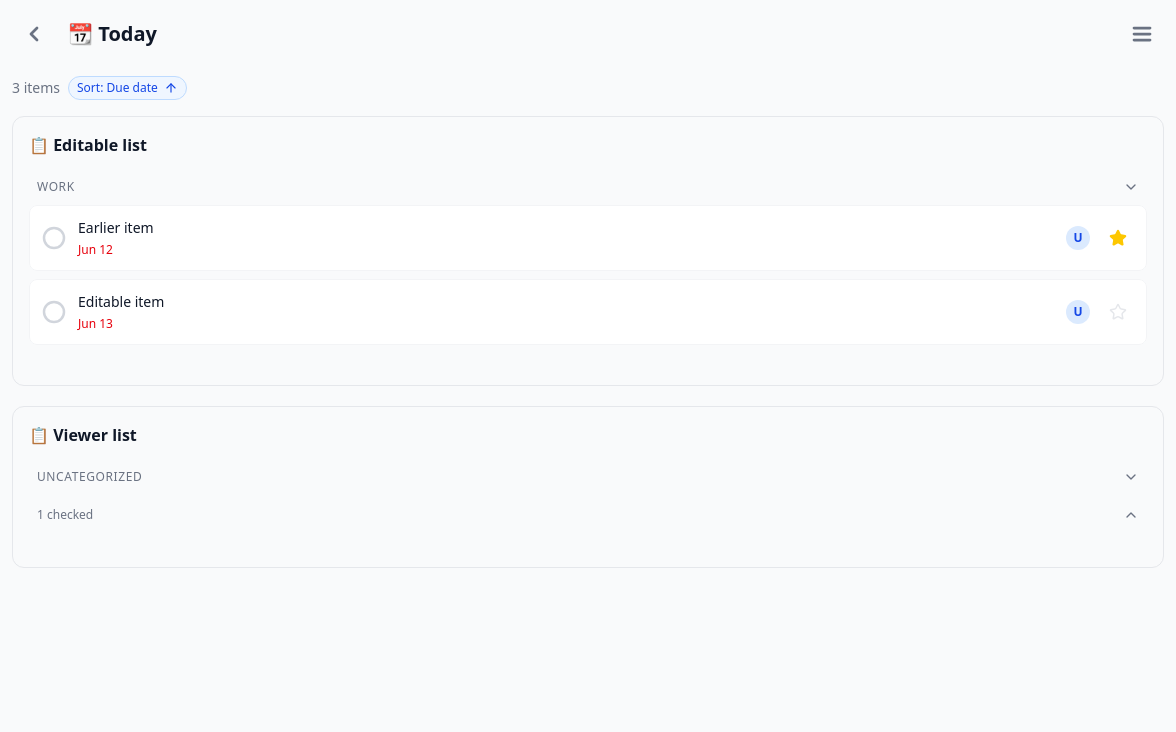
Test: Today page › uses the common burger menu with Filter and Sort submenus
The width and height of the screenshot is (1176, 732).
What coordinates should you click on to do the following:
click the button named "Today options"
I would click on:
 (1142, 34)
Its box is [1120,12,1164,56].
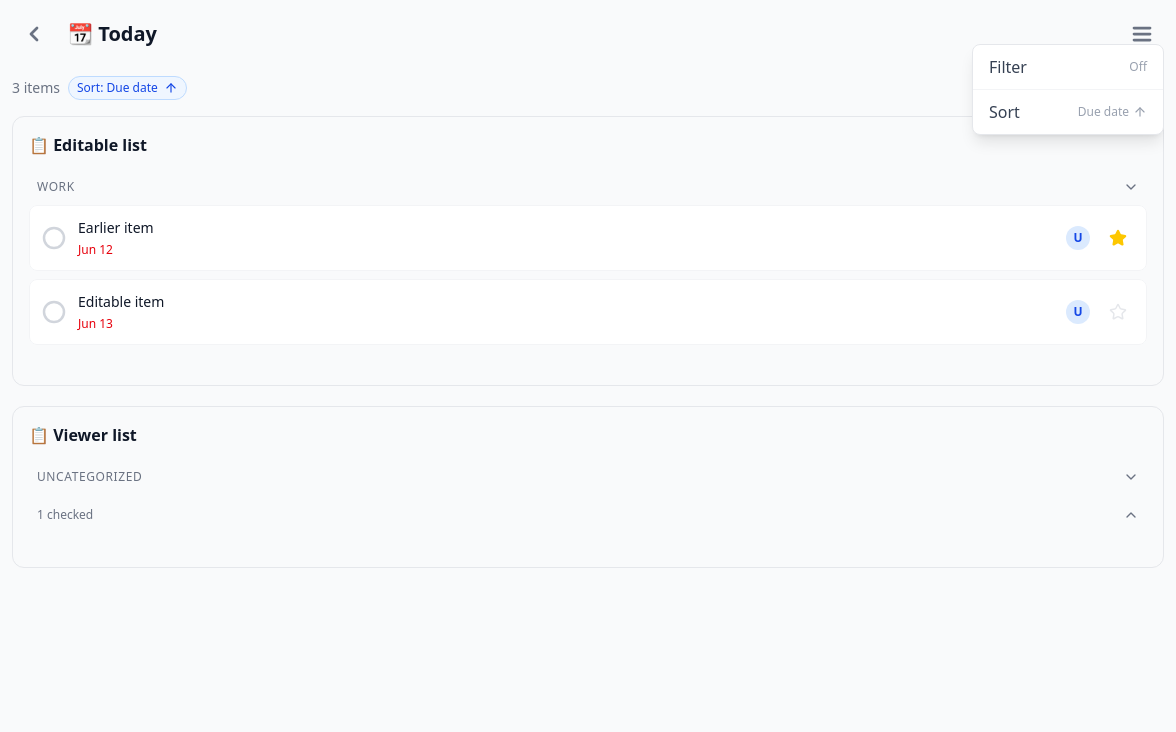
Check: the button "Starred only" is not shown
Check: the button "Filter Off" is shown
Check: the button "Sort Due date" is shown, box [973,94,1163,130]
What coordinates should you click on to do the following:
click the button "Filter Off"
I would click on:
 (1068, 67)
Its box is [973,49,1163,85].
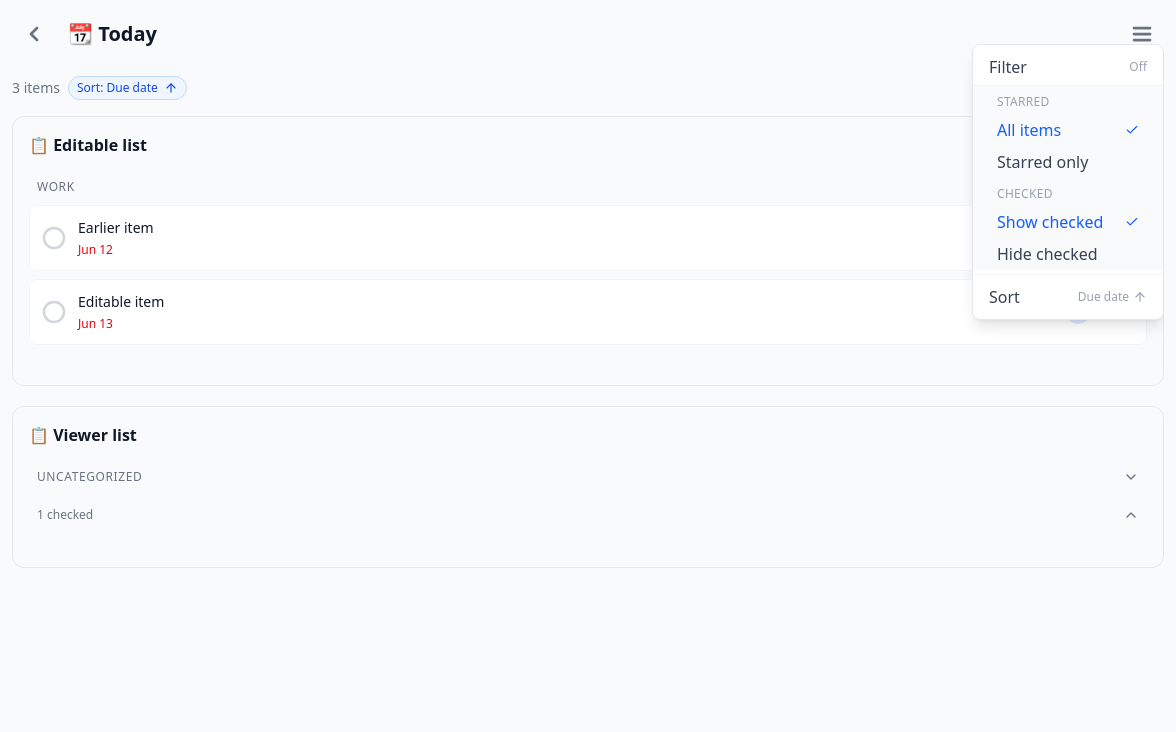
Check: the button "Starred only" is shown, box [973,146,1163,178]
Check: the button "Hide checked" is shown, box [973,238,1163,270]
What coordinates should you click on to do the following:
click the button "Sort Due date"
I would click on:
 (1068, 297)
Its box is [973,279,1163,315].
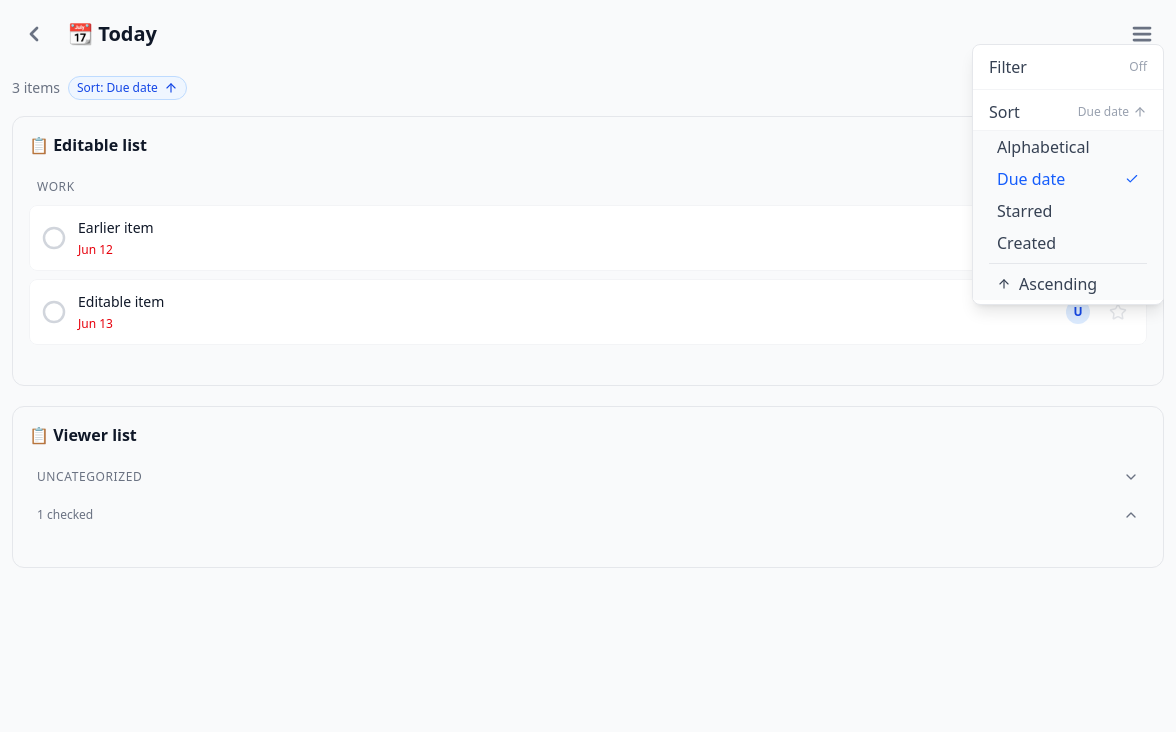
Check: the button "Starred only" is gone
